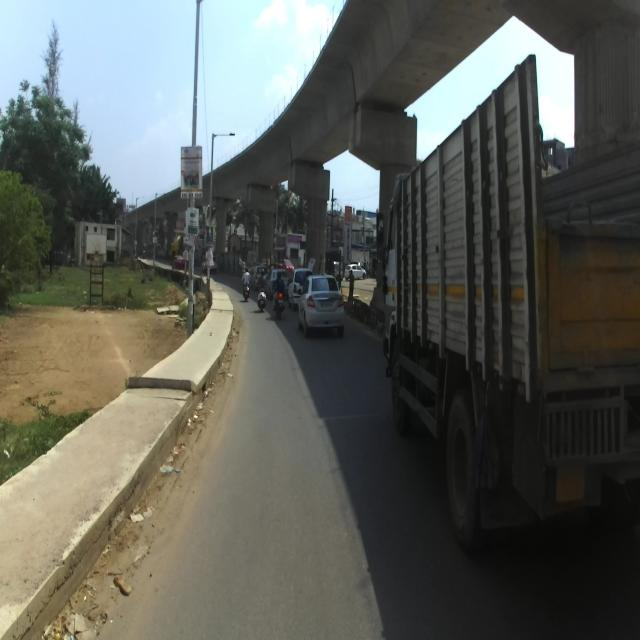car: (297, 270, 344, 336), (287, 268, 310, 310)
truck: (375, 54, 640, 555)
